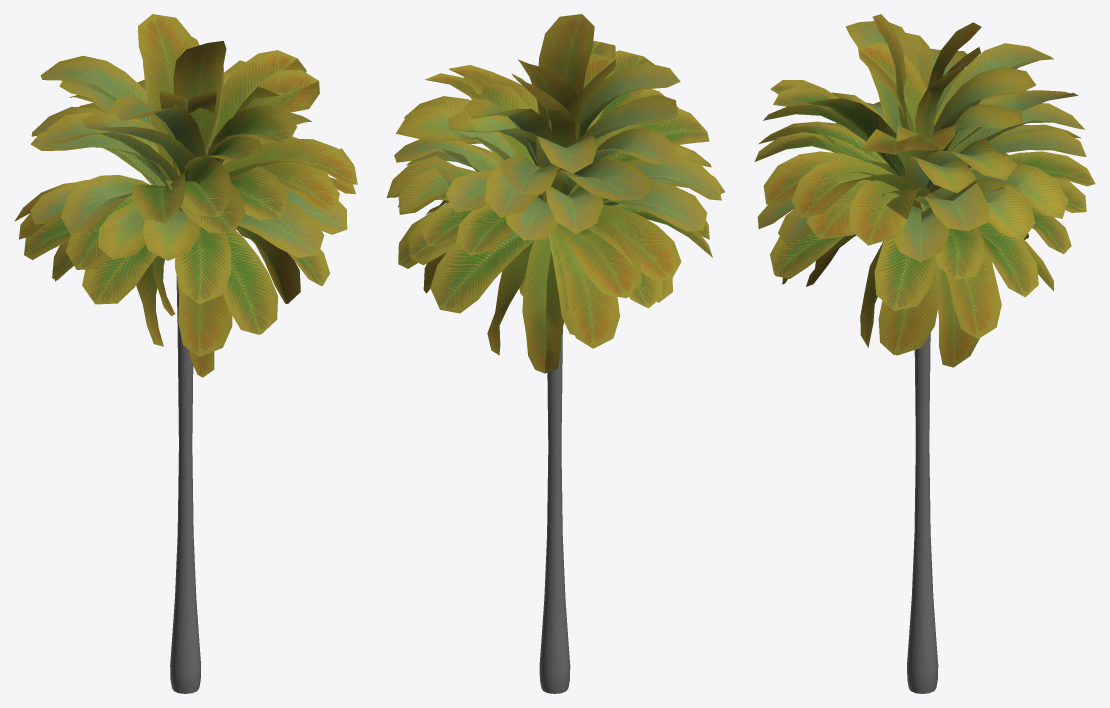
Rendered from Arabic Palmtree.fbx.
3 renders of one model, left to right at view 1: azimuth 30°, elevation 25°; view 2: azimuth 150°, elevation 25°; view 3: azimuth 270°, elevation 25°, orthographic.
Parts seen in each view (by area): view 1: PALM; view 2: PALM; view 3: PALM.
Boxes of the visible parts, bbox=[...] form: PALM: bbox=[14, 14, 357, 693]; PALM: bbox=[386, 14, 724, 693]; PALM: bbox=[754, 14, 1095, 693].
Bounding box in the file's own units: 205 × 434 × 200.
